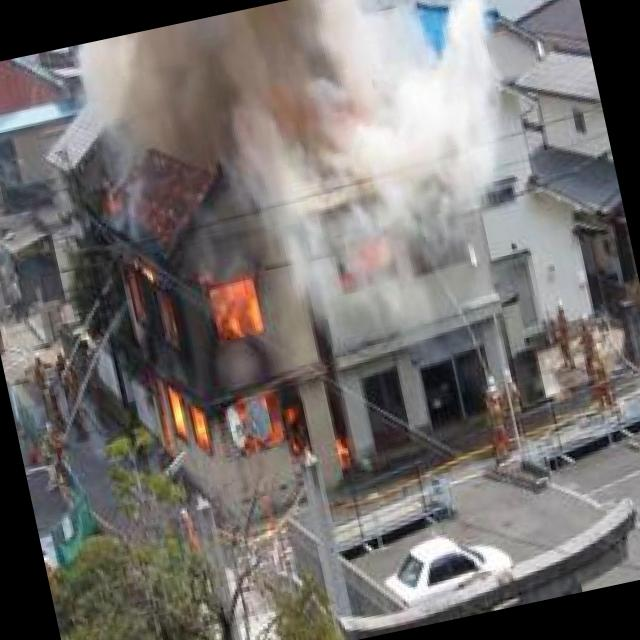Smoke: (202, 276, 268, 344), (277, 397, 312, 463), (164, 384, 192, 444), (188, 402, 212, 453), (330, 436, 360, 476)
